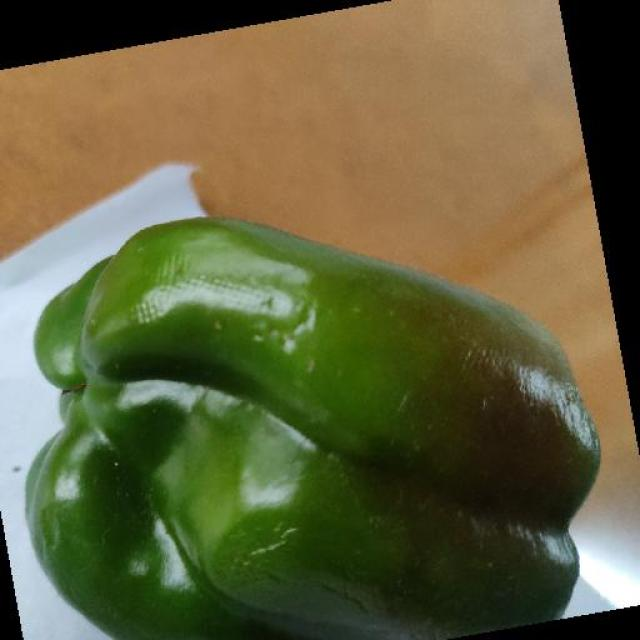Stale_Capsicum: (20, 224, 639, 640)
